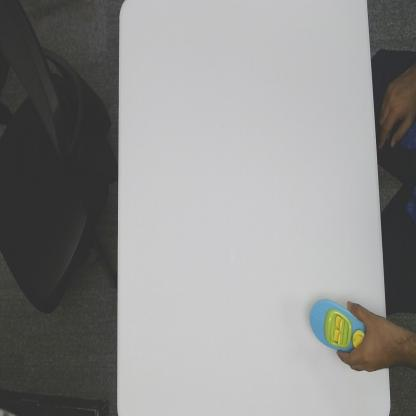Boat: (308, 296, 366, 355)
Hand: (337, 299, 389, 374)
